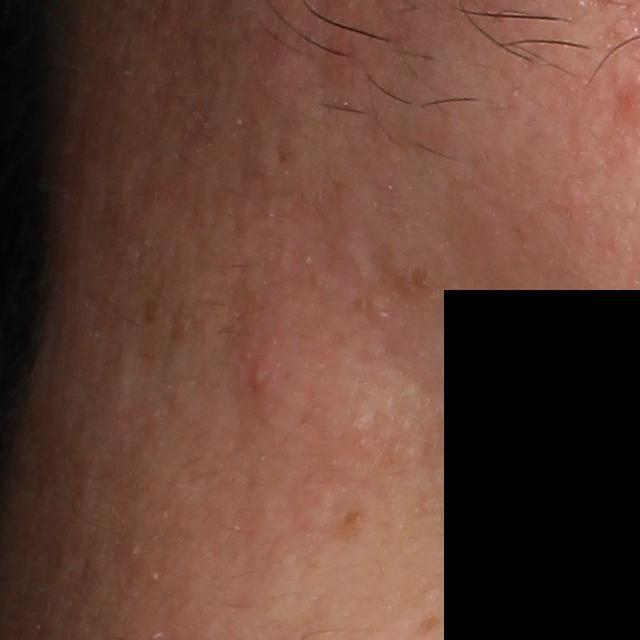melasma: (357, 244, 444, 323), (336, 503, 375, 543), (406, 609, 442, 638)
papule: (224, 318, 295, 417)
